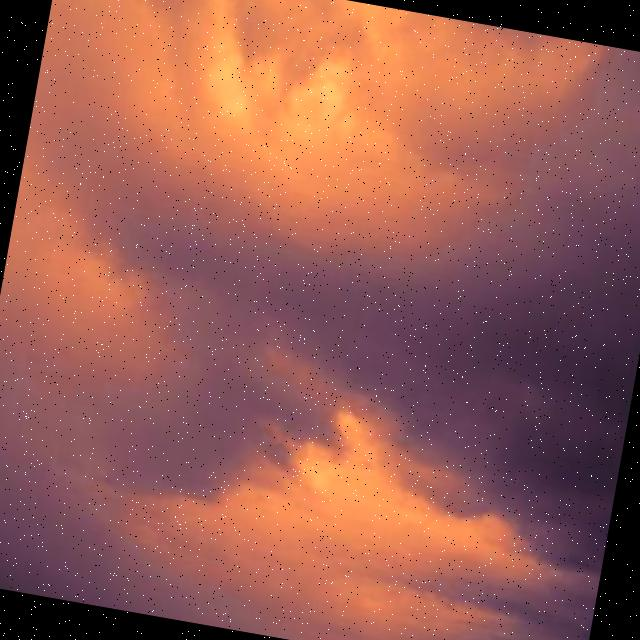As: (1, 1, 640, 640)
